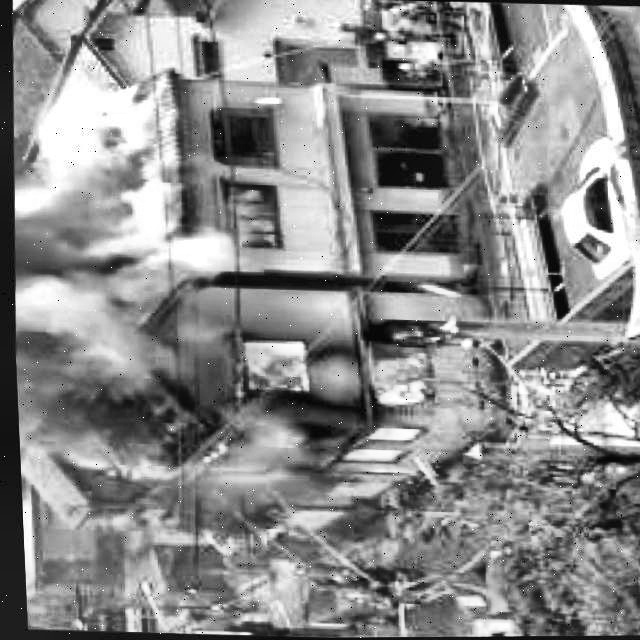Fire: (230, 333, 304, 396), (215, 185, 279, 249), (383, 319, 447, 346), (403, 275, 461, 299), (333, 445, 399, 463), (363, 426, 419, 446)
Smoke: (3, 73, 236, 447)
